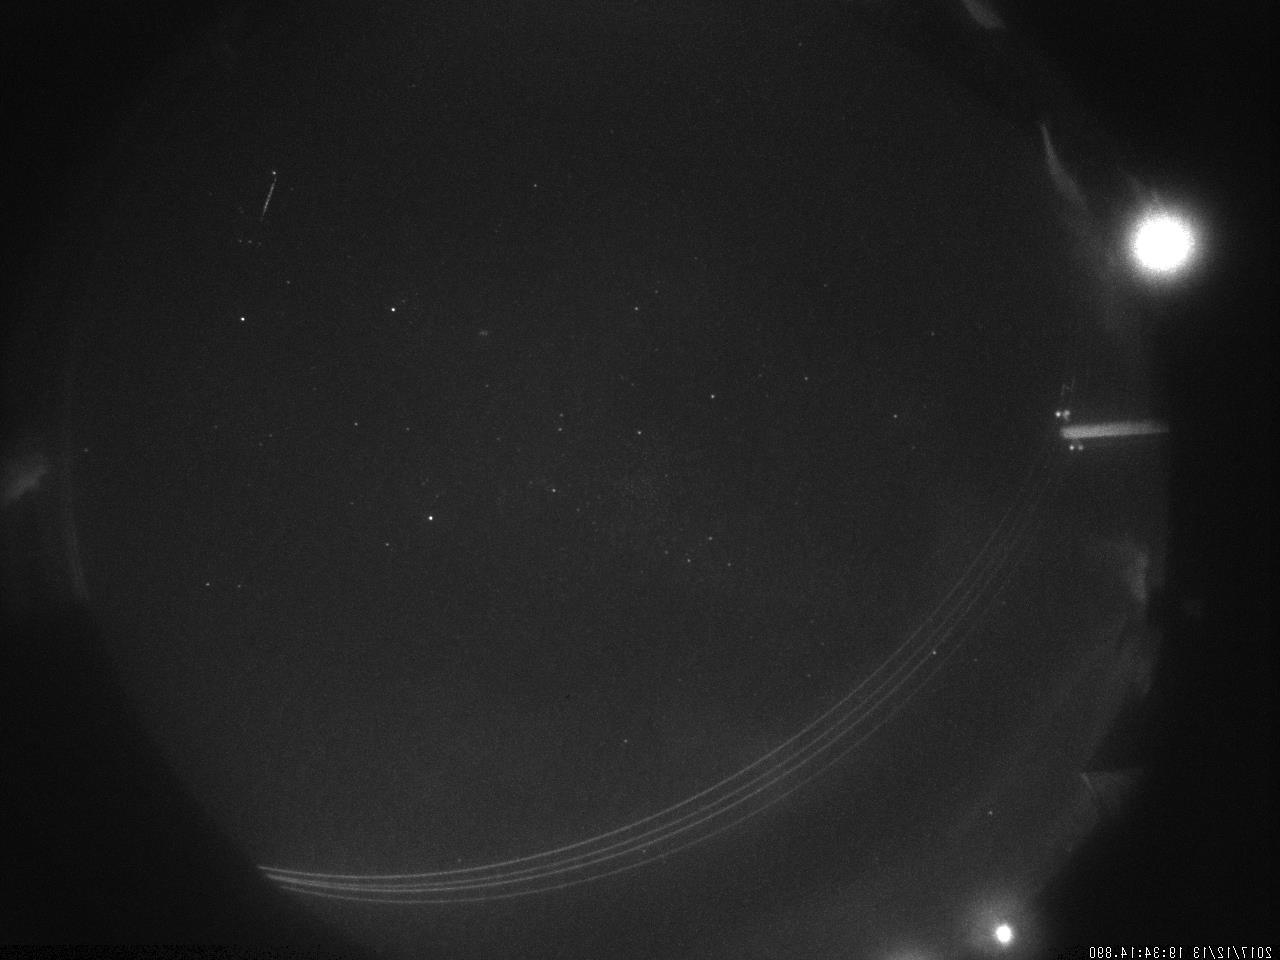satelite: (253, 173, 281, 227)
